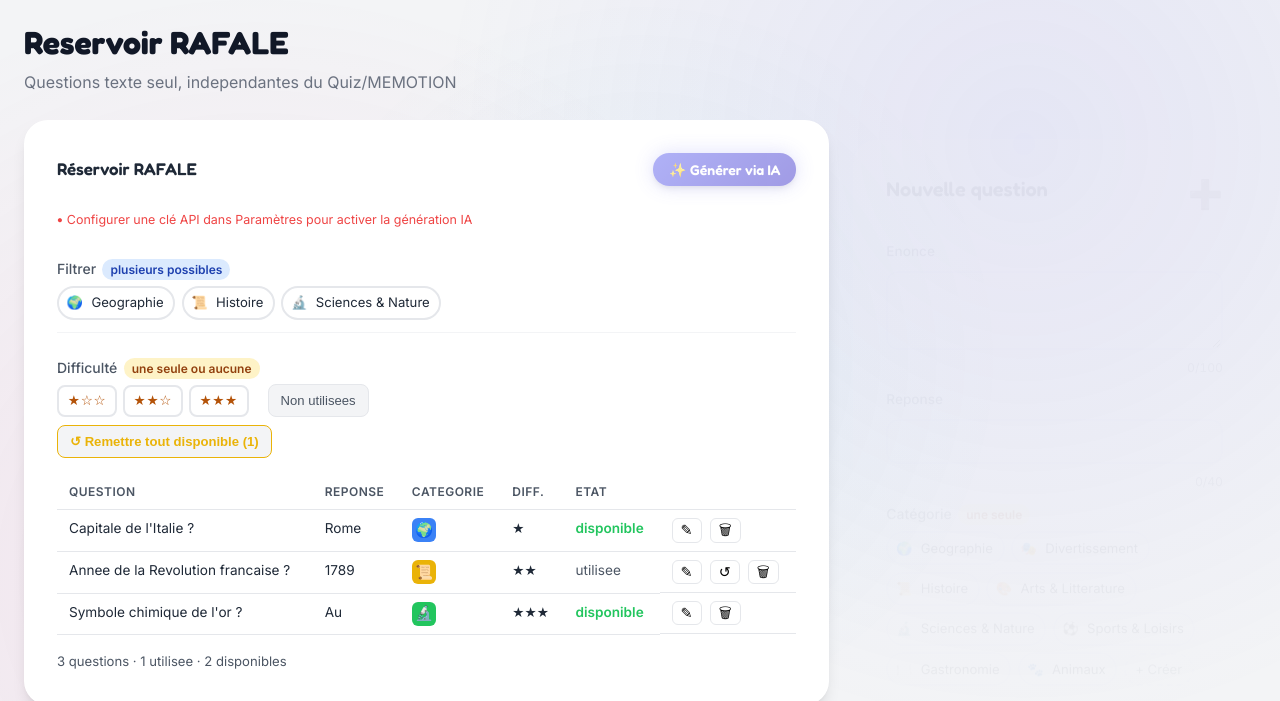
Scenario: RafalePage — filtres › les filtres sont appliqués côté client — aucun nouveau fetch déclenché
Expected: the text "Capitale de l'Italie ?" is shown, [57,510,313,552]
Click the radio button titled "Difficulte 1" at (87, 401), box [57,385,117,417]
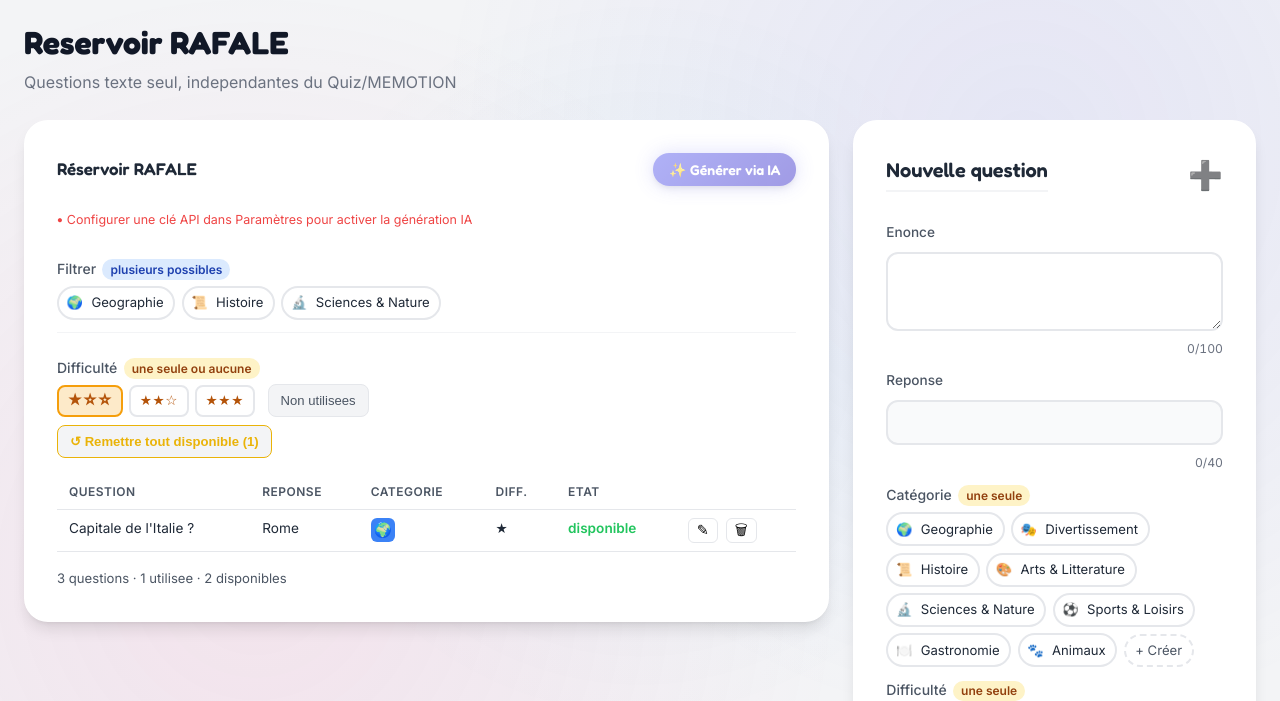
Now the text "Annee de la Revolution francaise ?" is gone
